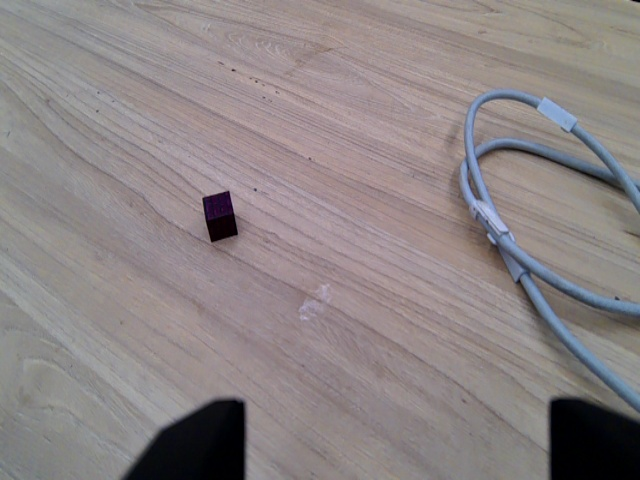brick: (197, 189, 243, 244)
